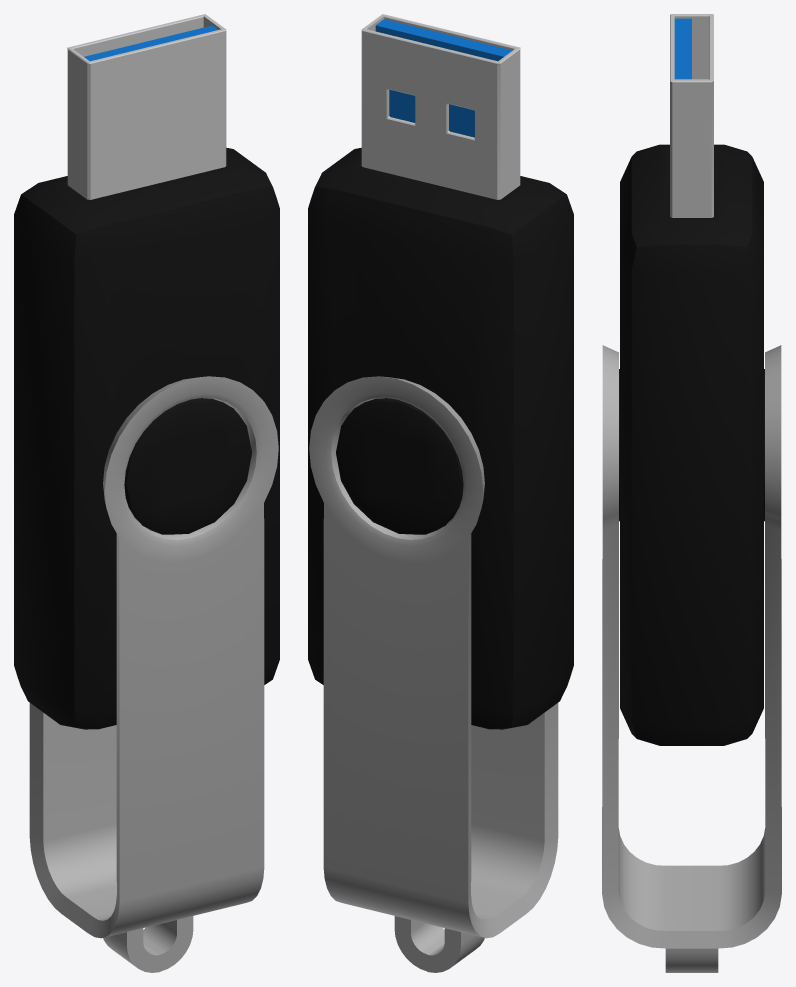
File: COMPUTERusb.fbx
3 views of the same model, side by side, from view 1: azimuth 30°, elevation 25°; view 2: azimuth 150°, elevation 25°; view 3: azimuth 270°, elevation 25° (orthographic).
Parts seen in each view (by area): view 1: Cube.120, Cylinder.096; view 2: Cube.120, Cylinder.096; view 3: Cube.120, Cylinder.096.
Part boxes in pixels (box(x1,y1,x2,y2)): Cube.120: box(14, 14, 279, 729); Cylinder.096: box(29, 376, 278, 972); Cube.120: box(308, 14, 573, 729); Cylinder.096: box(309, 376, 558, 972); Cube.120: box(619, 14, 764, 745); Cylinder.096: box(602, 345, 781, 972).
Size of the model in its own units: 6.13 by 23.99 by 4.24.
2 materials, 2 textured.
